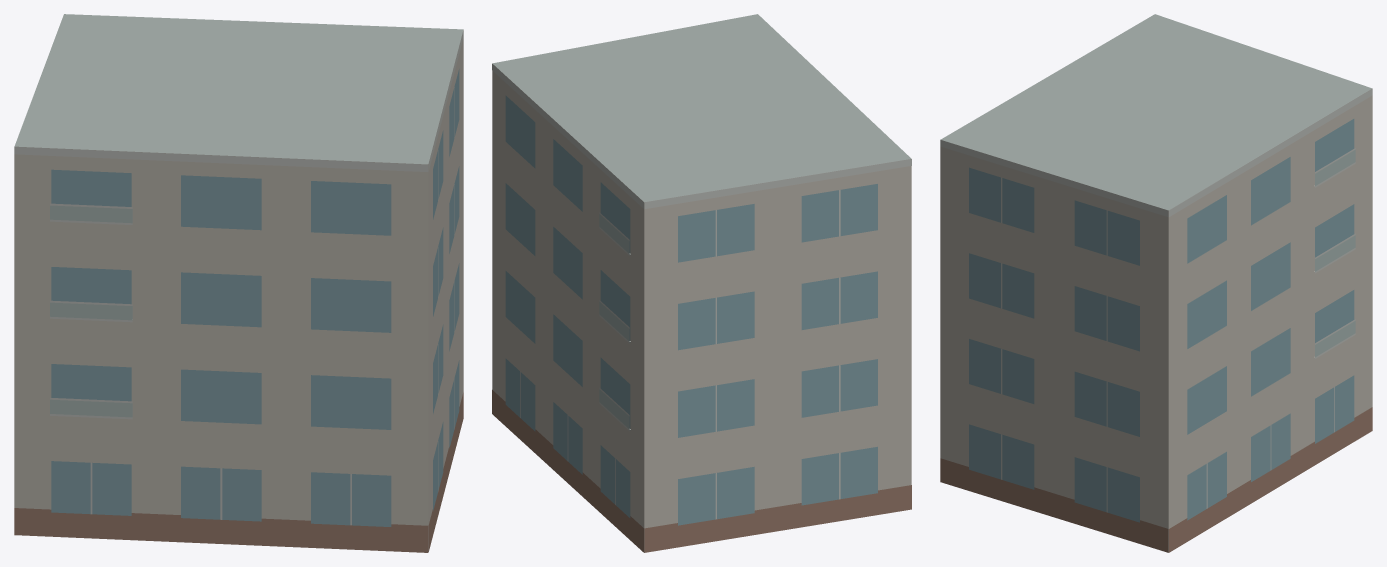
The model's file is survey-upis-33046655.glb.
3 renders of one model, left to right at view 1: azimuth 30°, elevation 25°; view 2: azimuth 150°, elevation 25°; view 3: azimuth 270°, elevation 25°, orthographic. The views are drawn at different scales.
Parts seen in each view (by area): view 1: survey-upis-33046655.tmp; view 2: survey-upis-33046655.tmp; view 3: survey-upis-33046655.tmp.
Boxes of the visible parts, x1,y1,x2,y2 form: survey-upis-33046655.tmp: (14, 14, 463, 552); survey-upis-33046655.tmp: (492, 14, 911, 552); survey-upis-33046655.tmp: (940, 14, 1372, 552).
Size of the model in its own units: 15.03 by 12.2 by 13.97.
